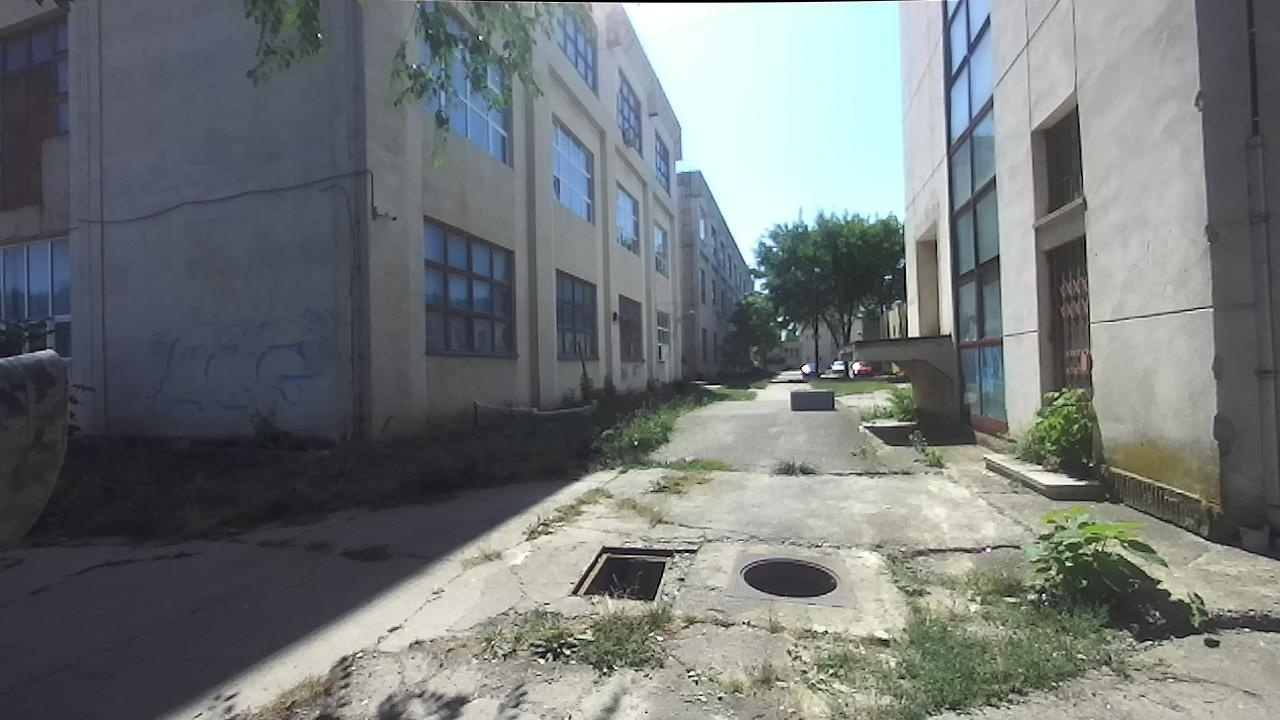drain: (563, 541, 675, 604), (729, 553, 846, 603)
